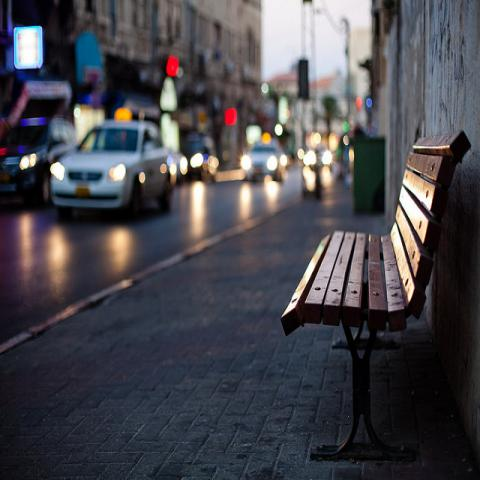car: (47, 118, 179, 224), (2, 113, 79, 202), (239, 143, 288, 185), (181, 137, 218, 181)
